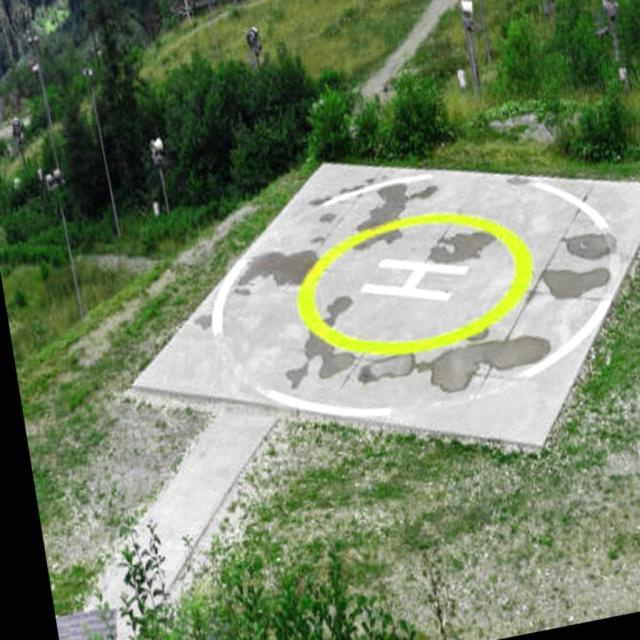helipad: (290, 206, 538, 360)
